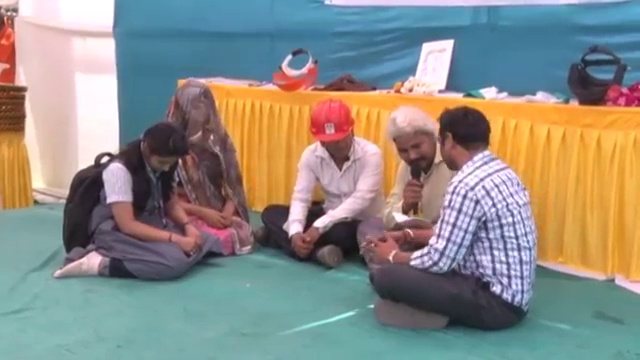helmet: (305, 100, 357, 146)
helmet_off: (436, 106, 493, 177), (388, 108, 438, 174), (132, 123, 190, 177), (174, 81, 218, 142)
helmet_on: (307, 96, 361, 159)
person: (363, 103, 541, 328), (53, 120, 209, 283), (258, 93, 383, 267), (164, 79, 254, 255), (360, 105, 454, 263)
